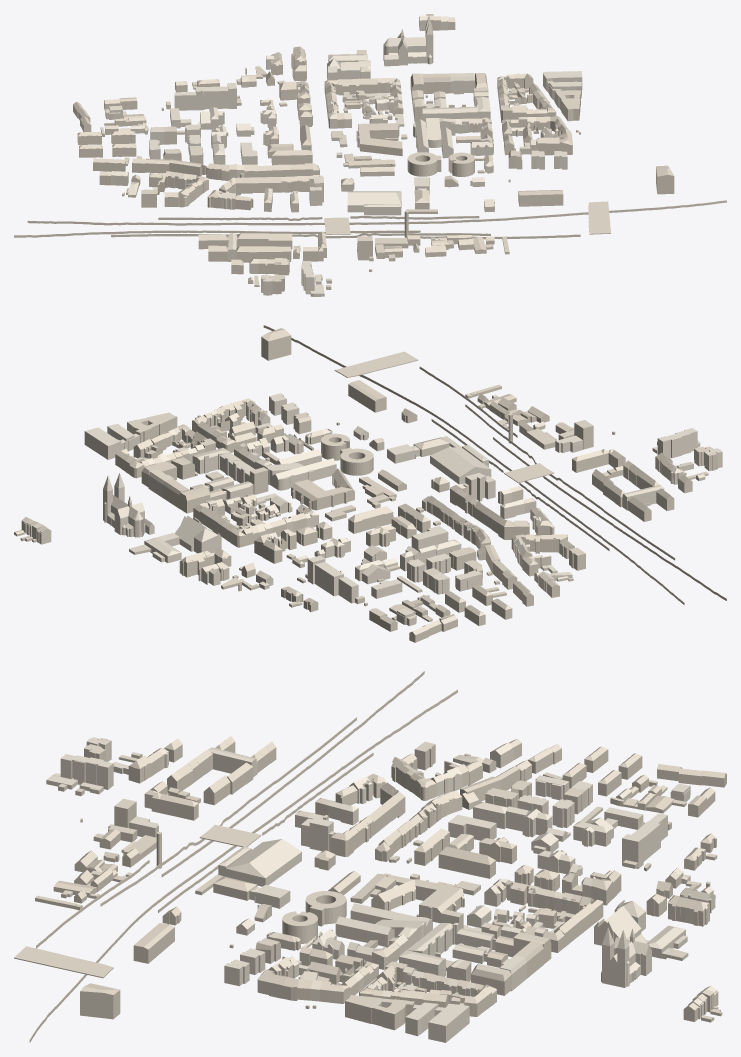
3 renders of one model, top to bottom at view 1: azimuth 30°, elevation 25°; view 2: azimuth 150°, elevation 25°; view 3: azimuth 270°, elevation 25°, orthographic. The views are drawn at different scales.
Bounding box in the file's own units: 837 × 70.77 × 665.
